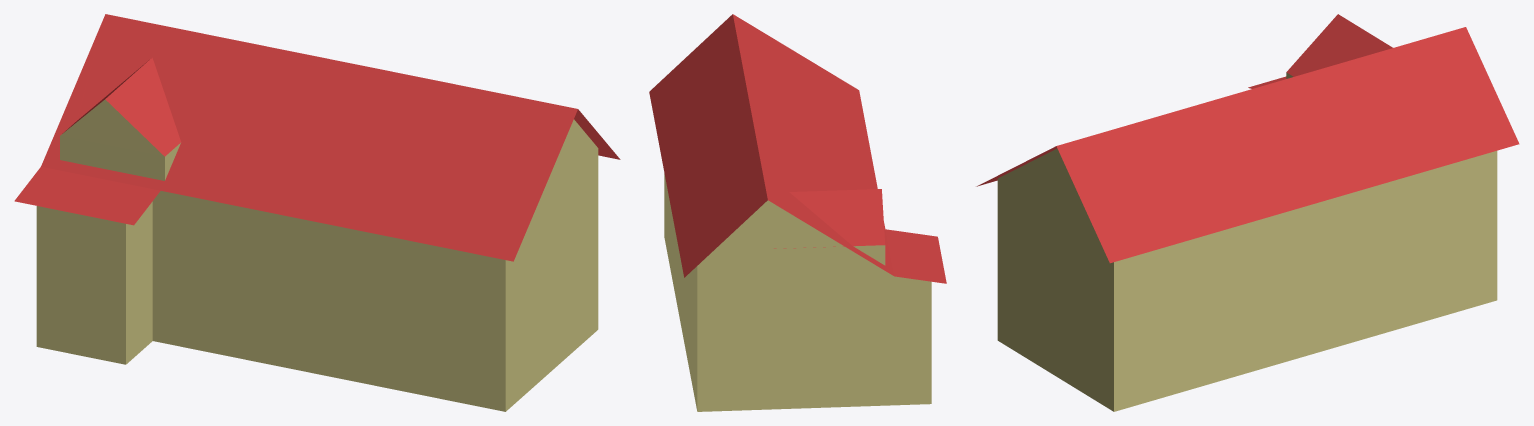
The picture shows the model from 3 angles, left to right: view 1: azimuth 30°, elevation 25°; view 2: azimuth 150°, elevation 25°; view 3: azimuth 270°, elevation 25°; orthographic projection. The views are drawn at different scales.
Size of the model in its own units: 24.63 by 25.47 by 12.52.
